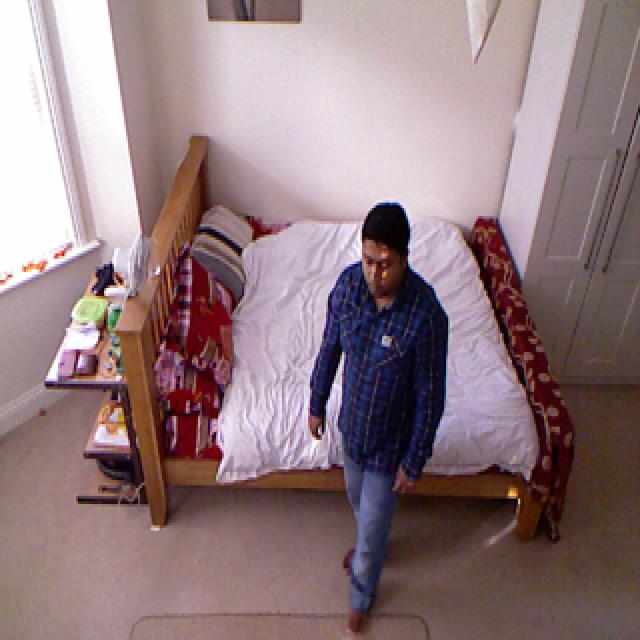standing: (308, 212, 449, 629)
